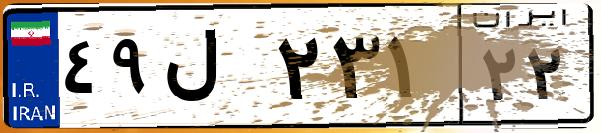1: (385, 28, 445, 110)
2: (270, 28, 330, 110), (475, 38, 525, 113), (525, 38, 570, 115)
3: (330, 28, 385, 110)
4: (57, 26, 110, 100)
9: (110, 28, 158, 98)
ل: (158, 20, 270, 120)
